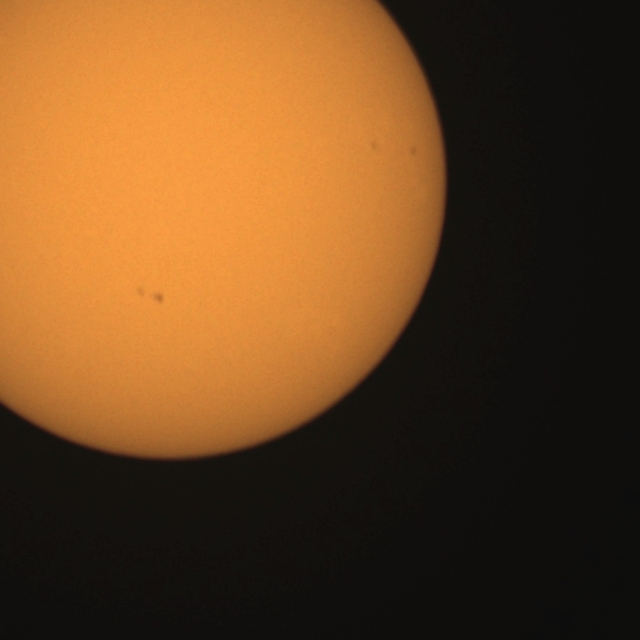sunspot: (136, 286, 166, 305), (153, 291, 166, 306)
